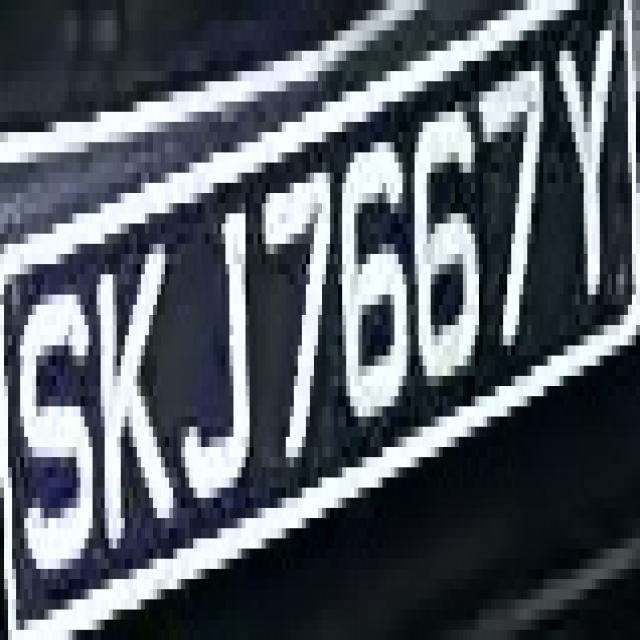6: (330, 102, 411, 457), (399, 61, 487, 386)
7: (254, 122, 334, 488), (475, 51, 555, 376)
J: (169, 173, 270, 538)
K: (93, 203, 181, 559)
S: (4, 254, 97, 589)
Y: (547, 0, 624, 305)
